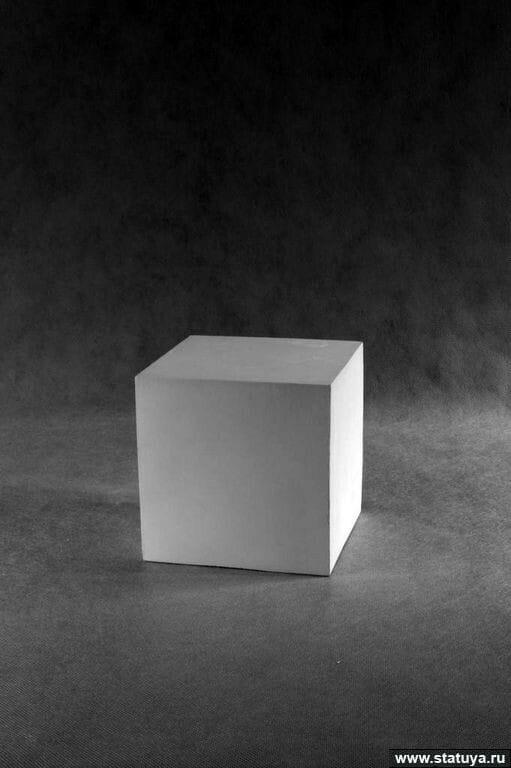cubos: (124, 322, 396, 590)
